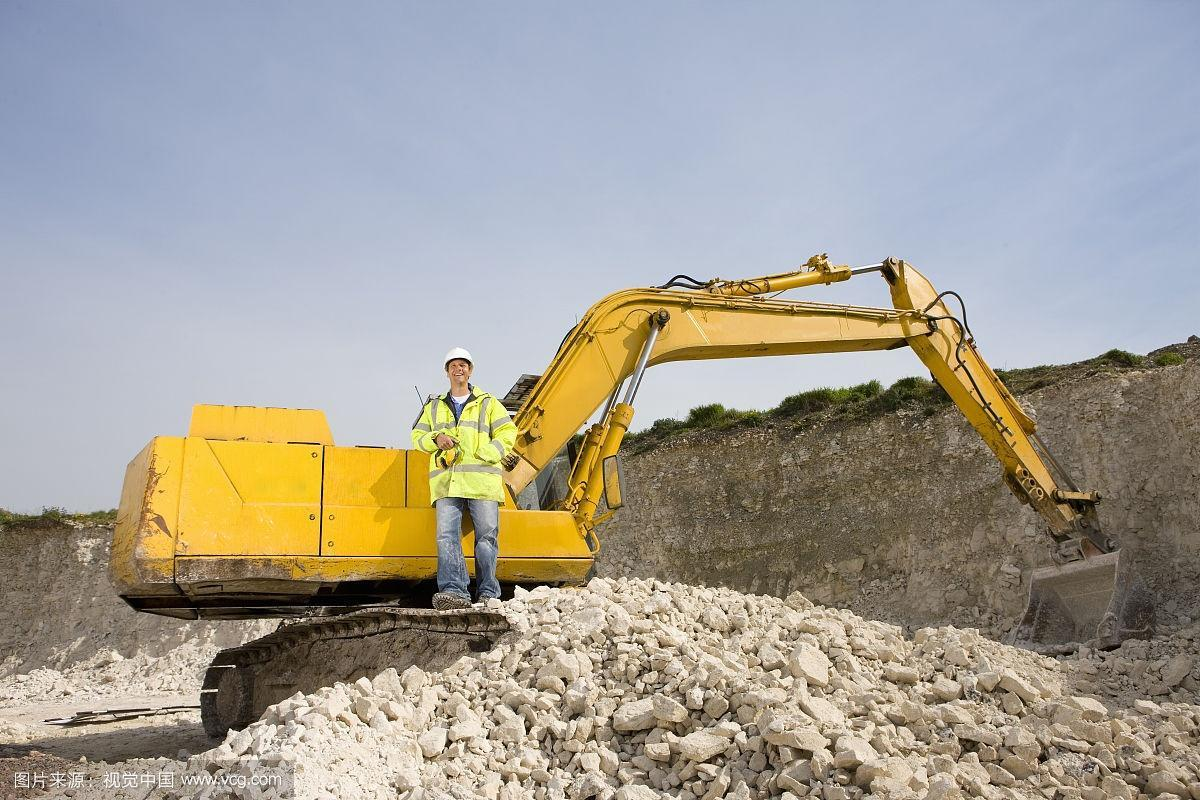helmet: (434, 345, 475, 382)
person: (406, 344, 525, 610)
vest: (409, 385, 523, 512)
